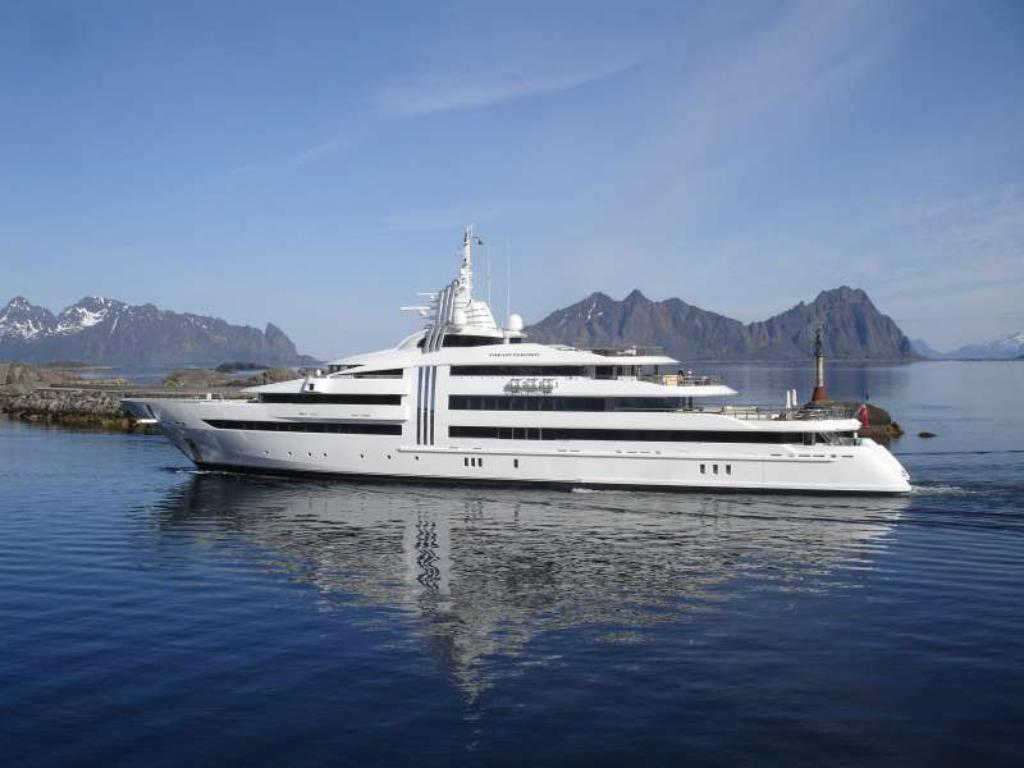PassengerShip: (120, 220, 914, 492)
